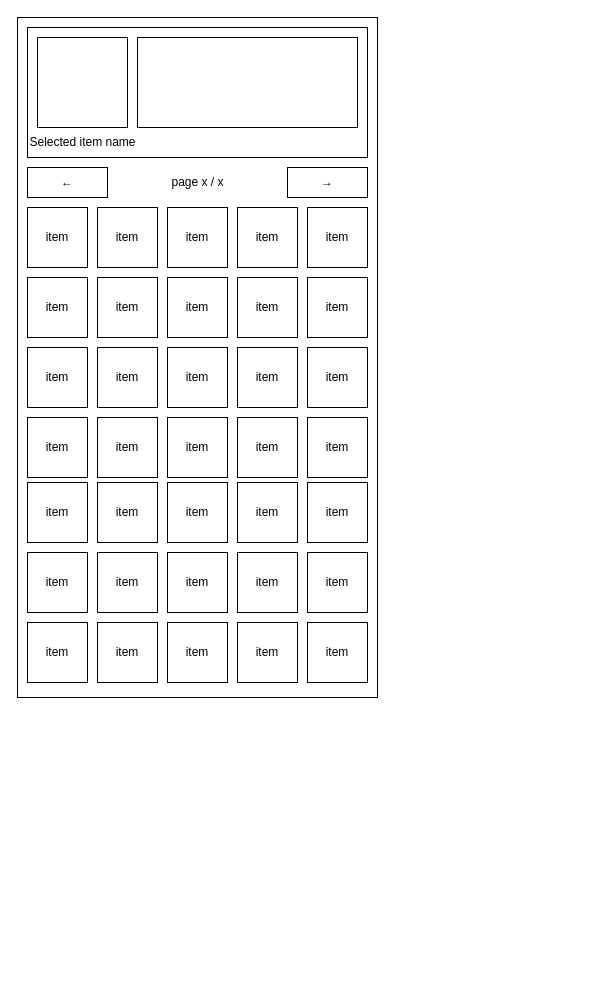
Image size: 593x998. Some labels were removed from this diagram. The box of each missing label's shape, as (x1, y1, x2, y2) in pixels:
Selected Item Icon: (36, 36, 128, 128)
Selected Item Status: (136, 36, 358, 128)
